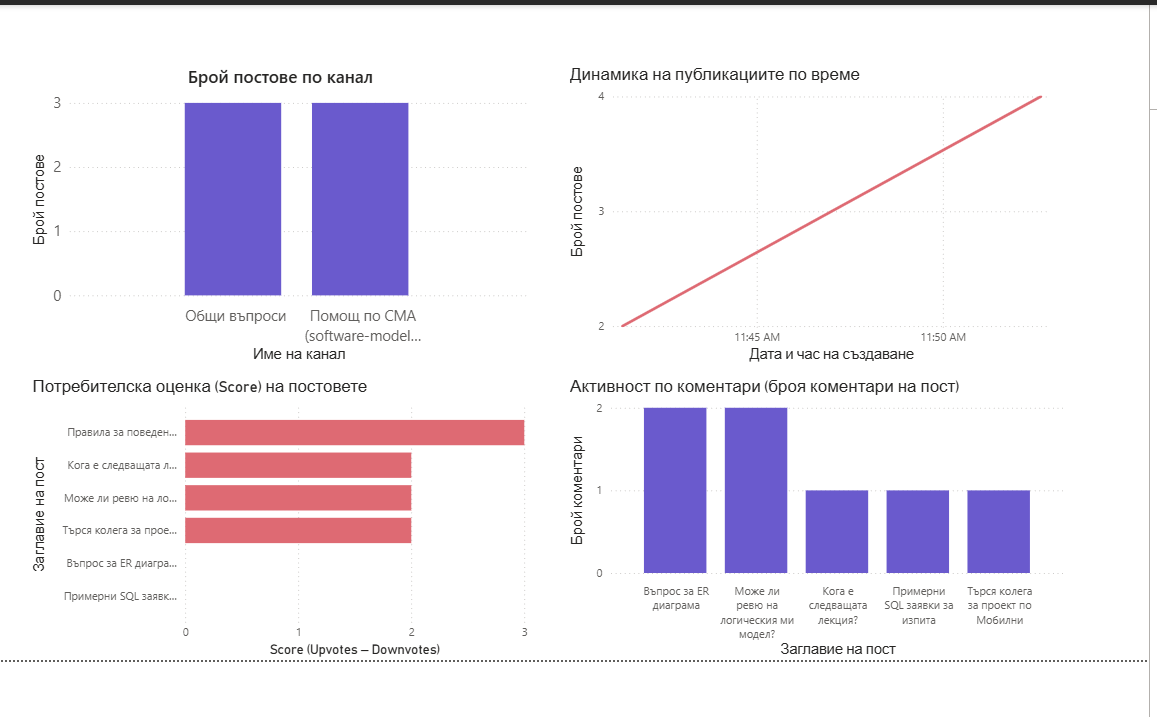

What the dashboard file says about the page in this screenshot:
{"tool":"powerbi","page":{"name":"Page 1","canvas":[1280,720],"ordinal":0},"visuals":[{"type":"clusteredColumnChart","title":"Брой постове по канал","fields":{"Category":["Channel.Name"],"Y":["CountNonNull(Post.PostId)"]},"box":[49.4,65.9,554.4,330.7],"z":0},{"type":"clusteredBarChart","title":"Потребителска оценка (Score) на постовете","fields":{"Category":["Post.Title"],"Y":["Post.PostScore"]},"box":[49,407,554,313],"z":1001},{"type":"lineChart","title":"Динамика на публикациите по време","fields":{"Category":["Post.CreatedAt"],"Y":["CountNonNull(Post.PostId)"]},"box":[639.5,65.9,553,330.7],"z":1002},{"type":"clusteredColumnChart","title":"Активност по коментари (броя коментари на пост)","fields":{"Category":["Post.Title"],"Y":["CountNonNull(Comment.CommentId)"]},"box":[639,407,553,313],"z":1003}]}

Visuals, with their boxes on the page's 1280x720 design canvas (x1, y1, x2, y2). These are canvas units, not pixel positions in the 1157x717 screenshot, which may show the page scaled, cropped or inside an application window:
"Брой постове по канал" clusteredColumnChart: <bbox>49, 66, 604, 397</bbox>
"Потребителска оценка (Score) на постовете" clusteredBarChart: <bbox>49, 407, 603, 720</bbox>
"Динамика на публикациите по време" lineChart: <bbox>640, 66, 1192, 397</bbox>
"Активност по коментари (броя коментари на пост)" clusteredColumnChart: <bbox>639, 407, 1192, 720</bbox>
